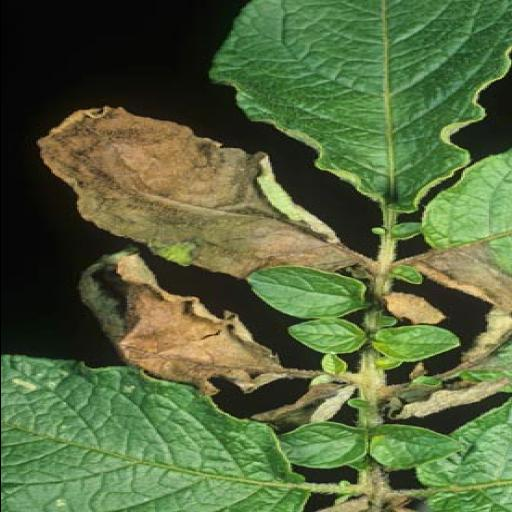disease_tomato: (32, 98, 378, 284), (76, 247, 293, 399)
